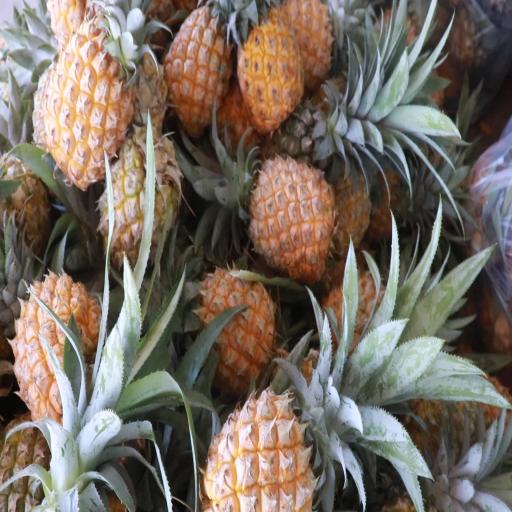------------------------------: (102, 132, 179, 261)
Pineapple - v8 v1: (204, 387, 315, 512), (17, 274, 102, 428), (49, 30, 132, 182), (248, 157, 333, 271), (196, 266, 278, 376), (163, 7, 232, 129), (238, 20, 304, 129)
